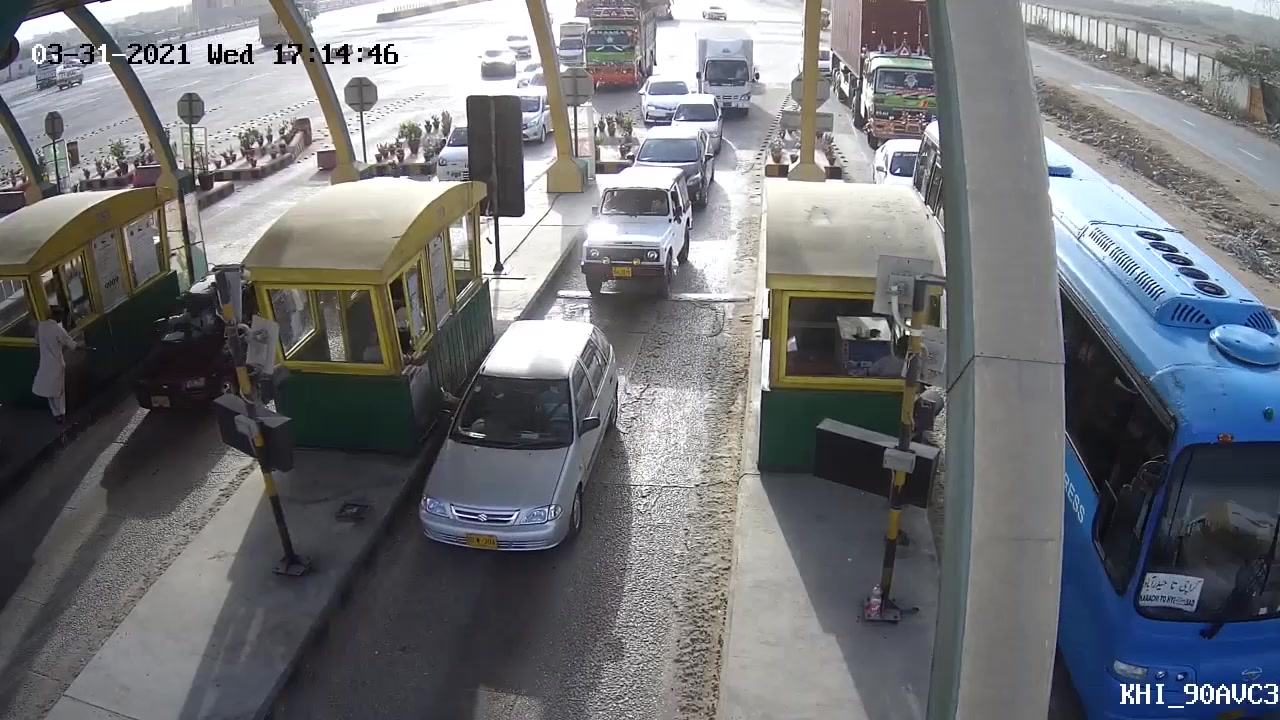F1: (417, 314, 625, 567), (578, 164, 694, 300)
